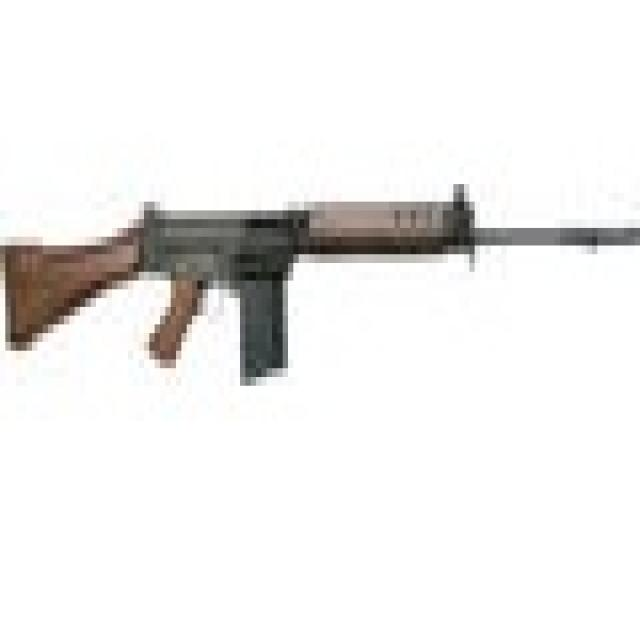Gun: (26, 134, 627, 402)
